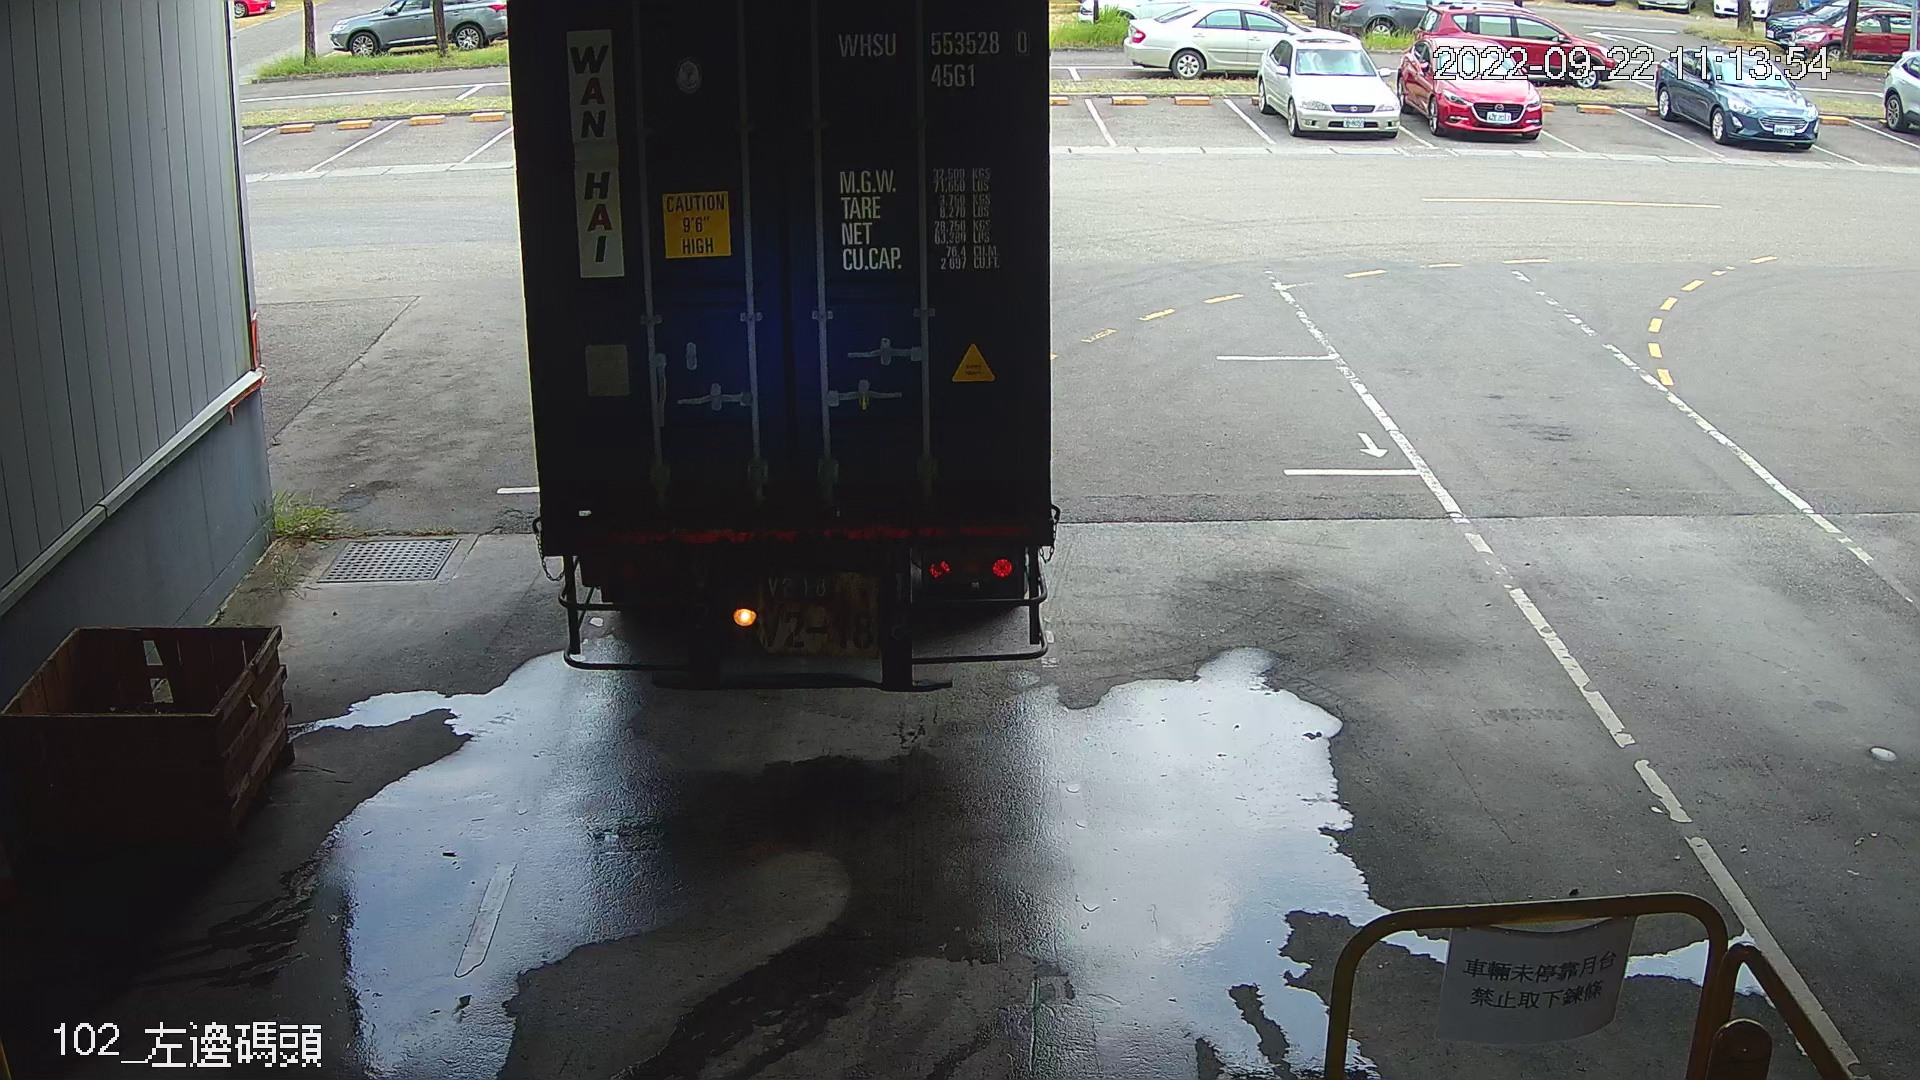container: (825, 18, 1038, 94)
